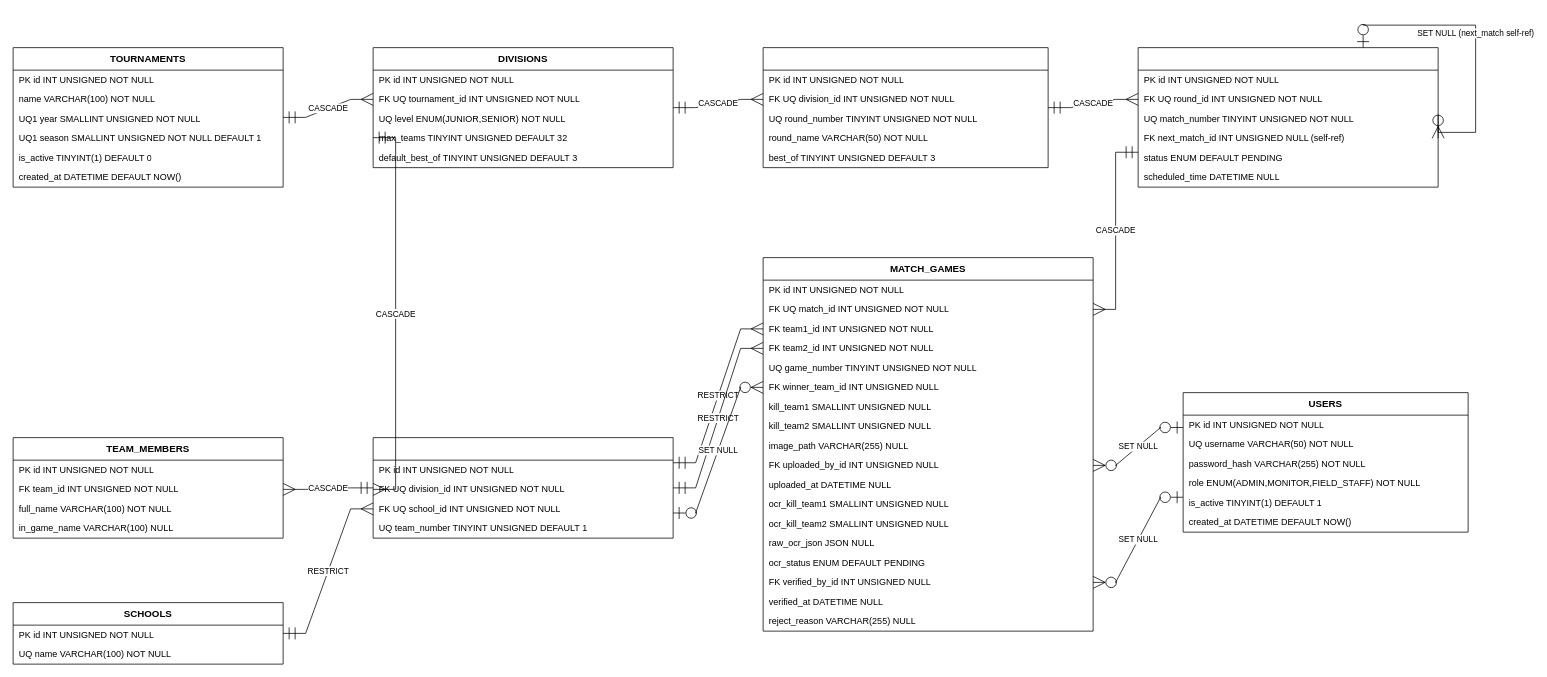
Image size: 1547x677. Some labels were removed from this diagram. The box of each missing label's shape, as (x1, y1, x2, y2) in pixels:
MATCHES: (1137, 47, 1438, 187)
ROUNDS: (762, 47, 1048, 168)
TEAMS: (372, 437, 673, 538)
